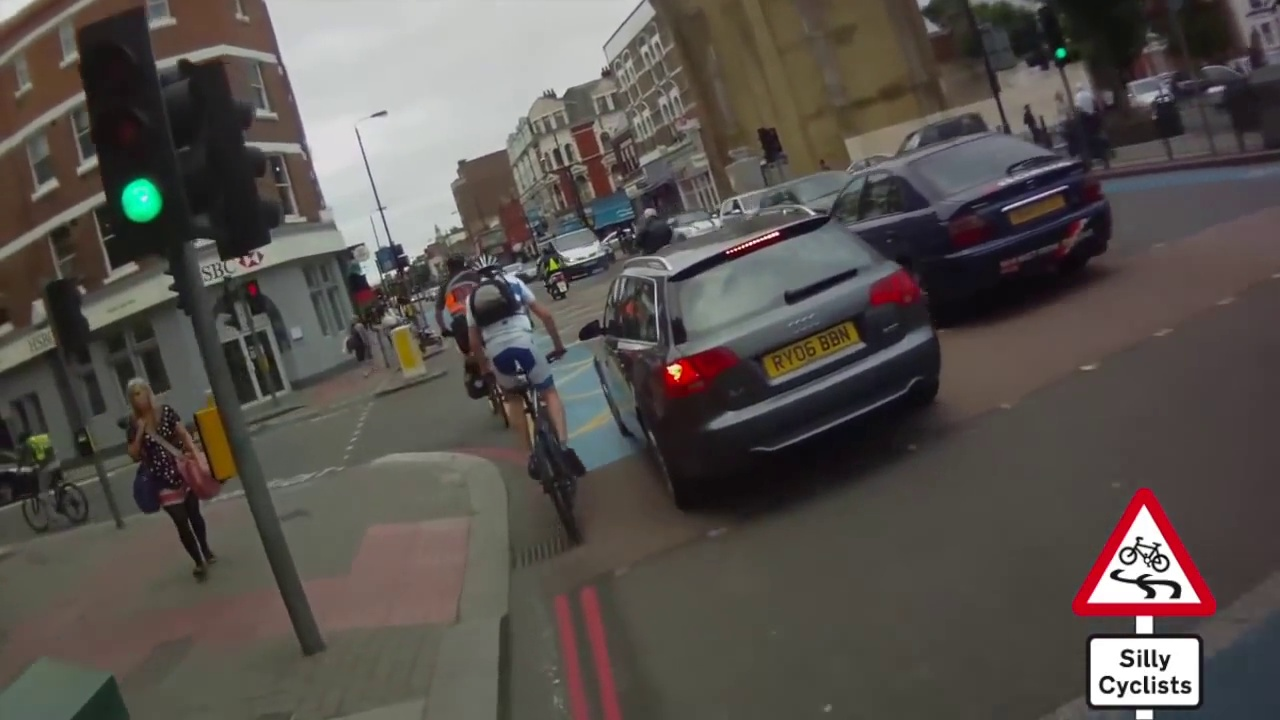cyclist_back: (456, 251, 604, 550)
cyclist_side: (6, 430, 93, 529)
